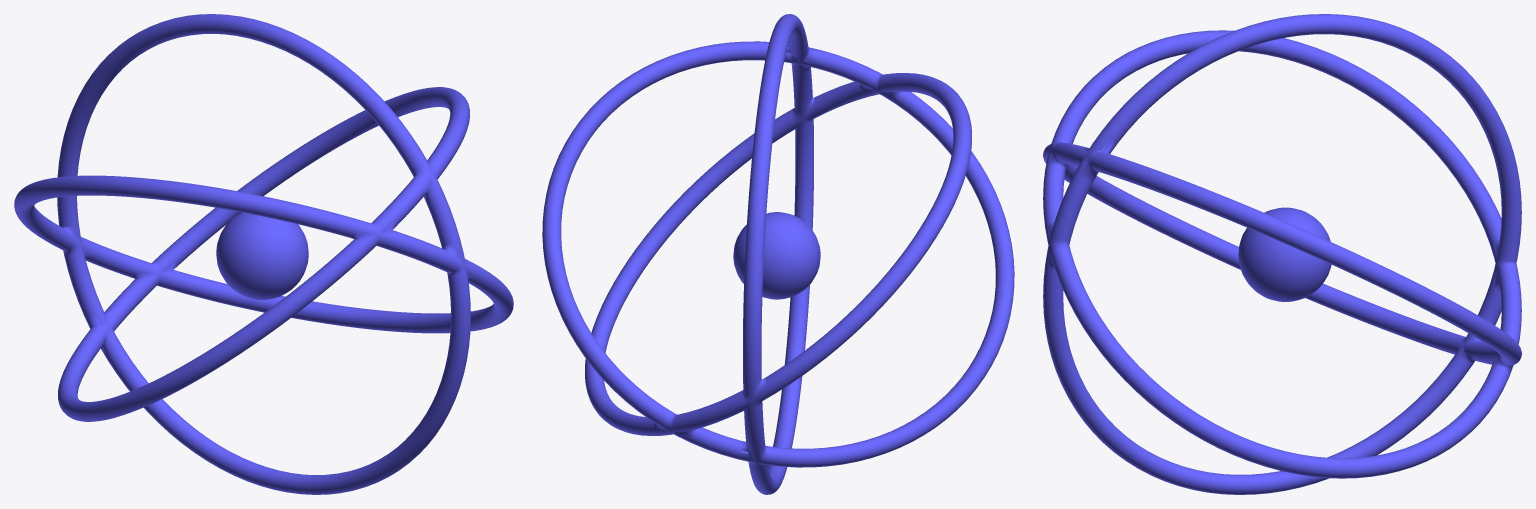
The model's file is react.glb.
3 renders of one model, left to right at view 1: azimuth 30°, elevation 25°; view 2: azimuth 150°, elevation 25°; view 3: azimuth 270°, elevation 25°, orthographic. The views are drawn at different scales.
Visible parts, largest first — view 1: Torus.002, Sphere; view 2: Torus.002, Sphere; view 3: Torus.002, Sphere.
Part boxes in pixels (left/top/right/bottom): Torus.002: left=14, top=14, right=513, bottom=494; Sphere: left=216, top=212, right=308, bottom=299; Torus.002: left=542, top=14, right=1014, bottom=494; Sphere: left=733, top=212, right=820, bottom=299; Torus.002: left=1043, top=14, right=1521, bottom=494; Sphere: left=1238, top=207, right=1331, bottom=301.
Bounding box in the file's own units: 0.491 × 0.5511 × 0.5071.
